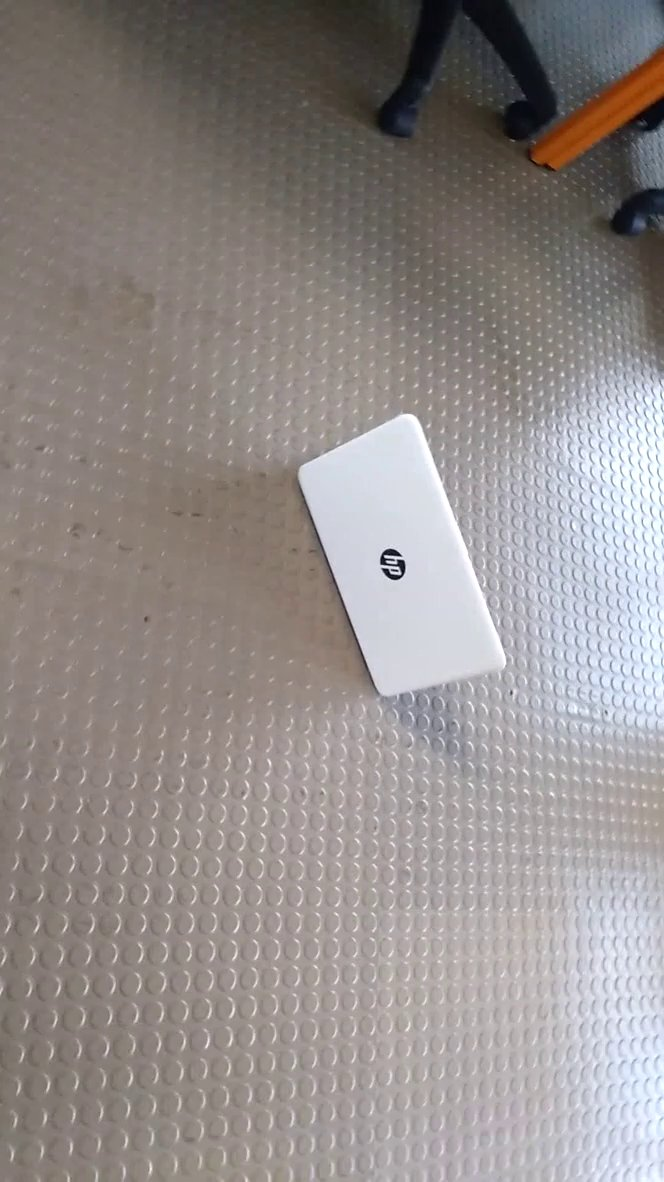laptop: (282, 403, 513, 706)
